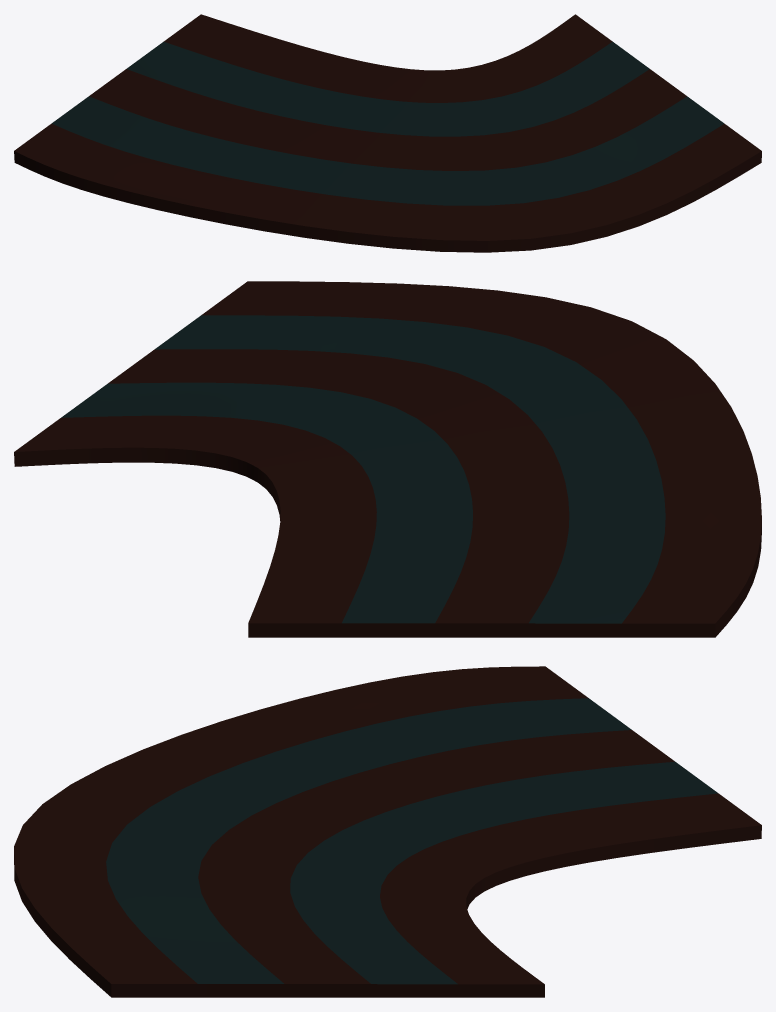
Rendered from trackright1.fbx.
3 views of the same model, one above another, from view 1: azimuth 30°, elevation 25°; view 2: azimuth 150°, elevation 25°; view 3: azimuth 270°, elevation 25° (orthographic). The views are drawn at different scales.
Visible parts, largest first — view 1: right1; view 2: right1; view 3: right1.
Boxes of the visible parts, left/top/right/bottom form: right1: left=14, top=14, right=761, bottom=252; right1: left=14, top=281, right=761, bottom=637; right1: left=14, top=666, right=761, bottom=997.
Bounding box in the file's own units: 501 × 15.75 × 498.
Materials: 1 (1 with a texture image).
